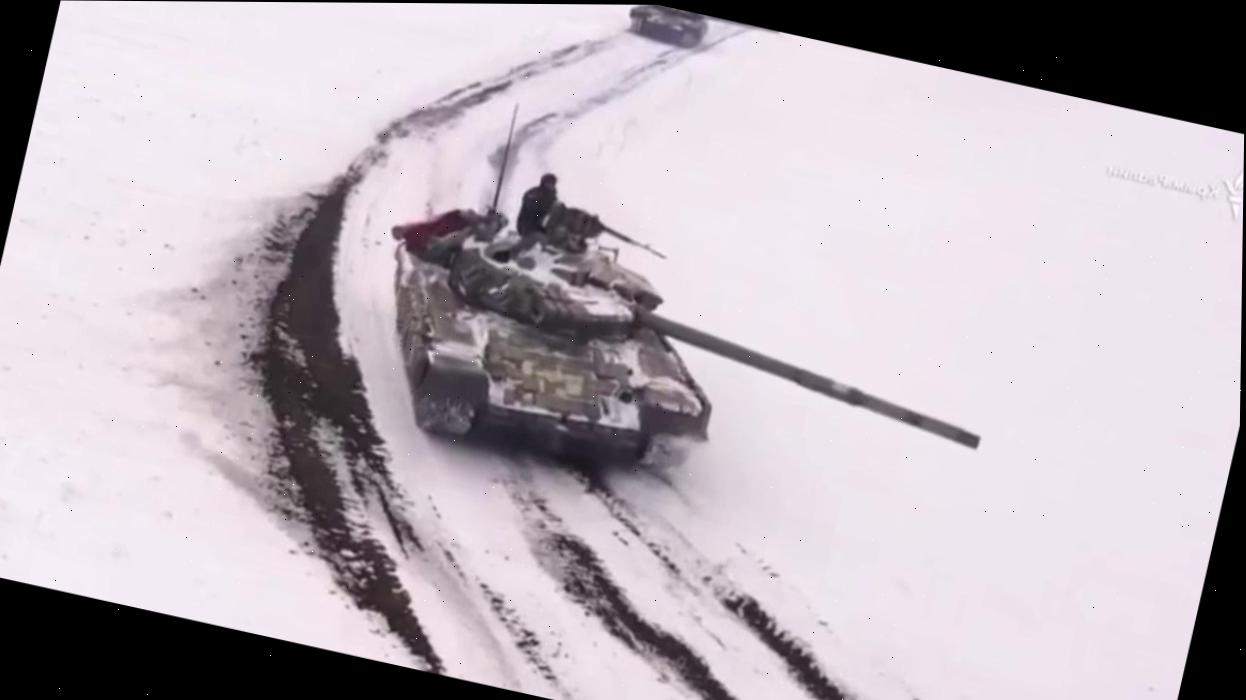tank: (350, 142, 1023, 550), (599, 4, 780, 70)
